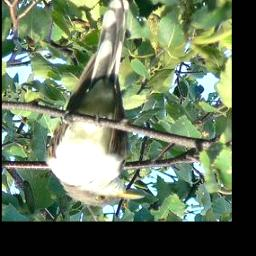Cuckoo: (46, 0, 145, 209)
